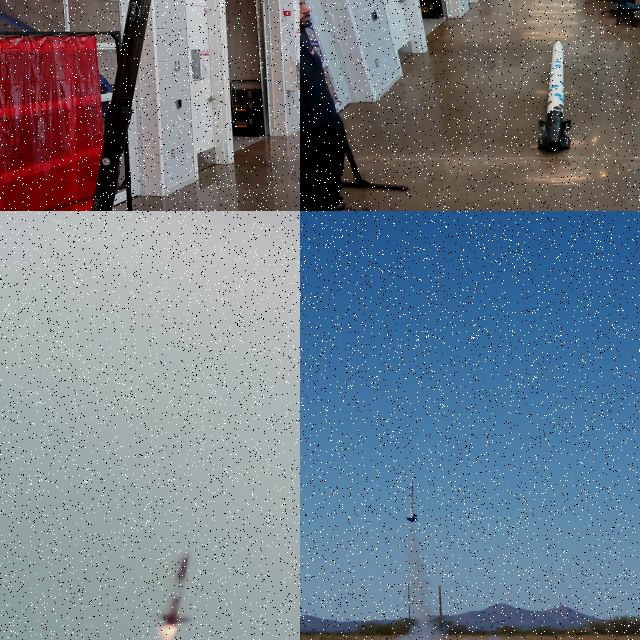Rocket: (91, 0, 152, 211), (538, 41, 572, 149), (158, 550, 196, 626), (407, 481, 418, 522)
